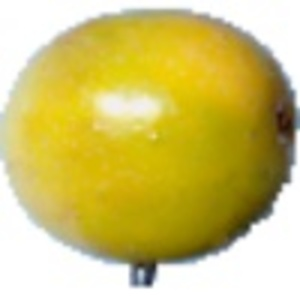maracujá: (1, 7, 300, 289)
